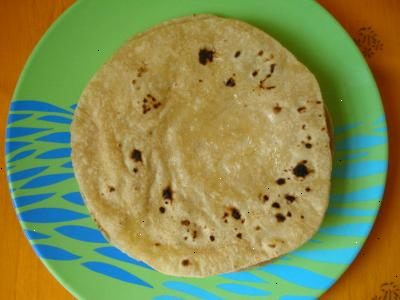roti phulka: (72, 15, 336, 277)
